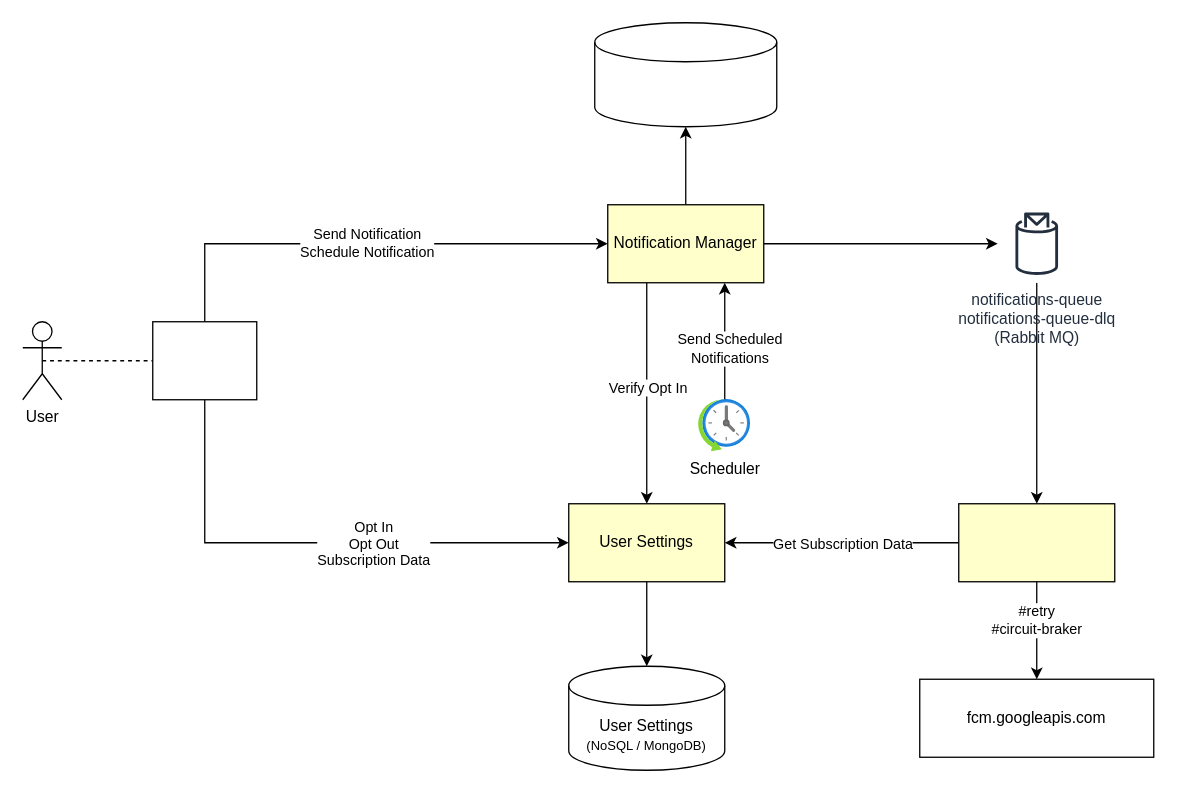
The diagram is 1177 pixels wide and 793 high, and some of its shapes have lost their labels. The shapes that lost their labels are listed below. From the top down, each one's centre as x and y in pixels, then its label:
At point (685, 74): "Scheduled Notifications (Relacional / MySQL / Locks / Transactions)".
At point (204, 360): "Internal Applications".
At point (1036, 542): "Notification Sender".
